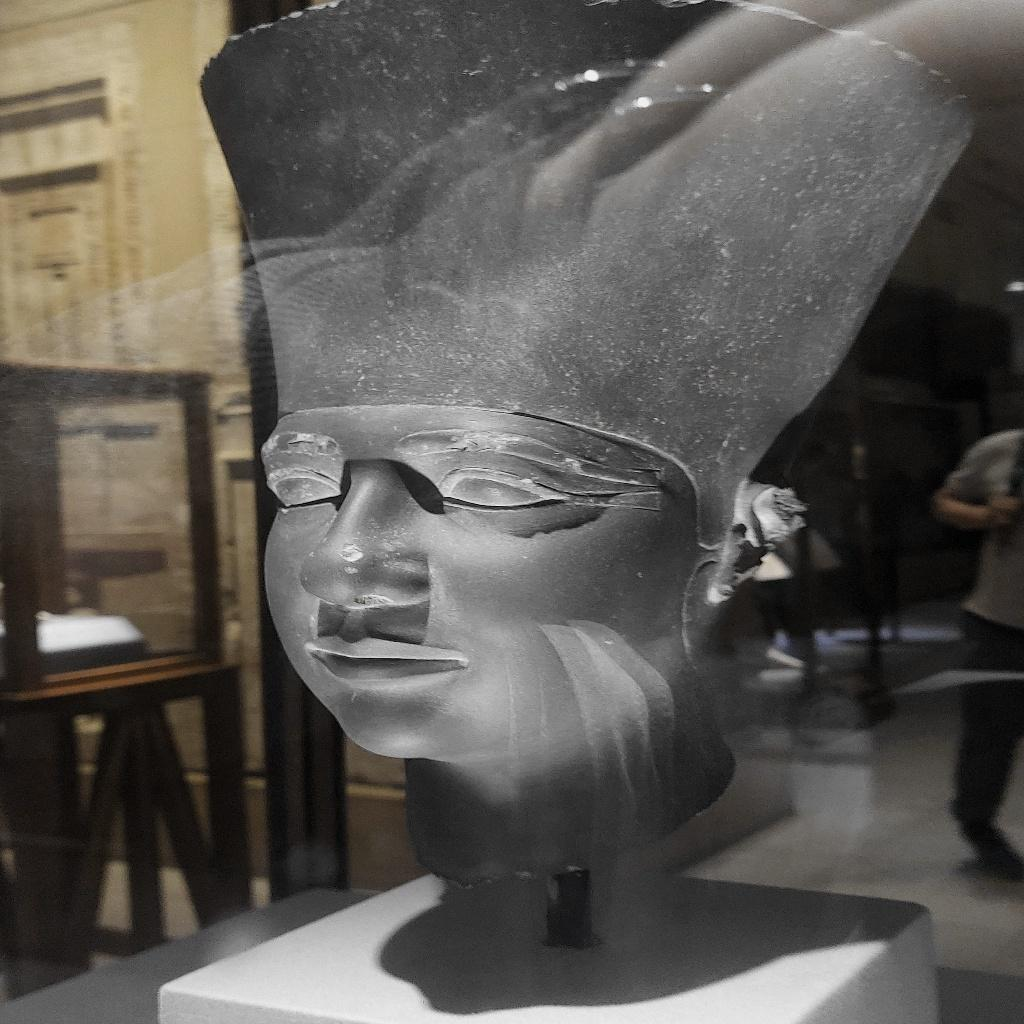Head of Userkaf: (194, 3, 976, 885)
